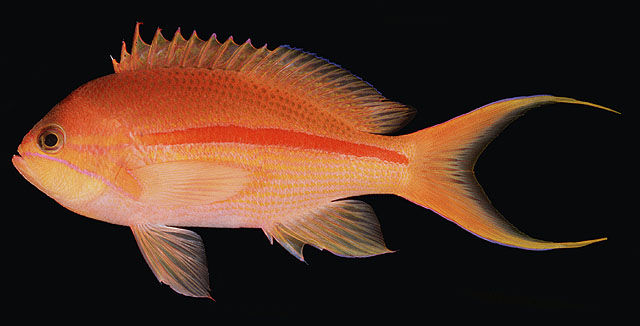fish: (11, 22, 622, 302)
